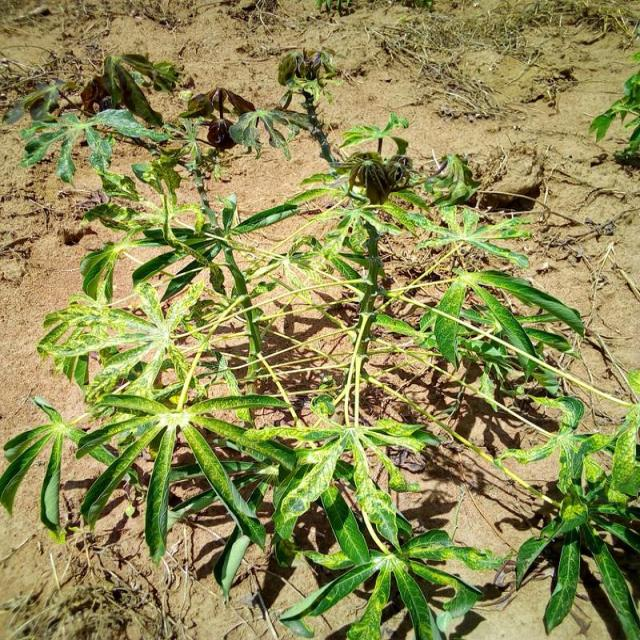cassava leaf: (3, 51, 638, 637)
